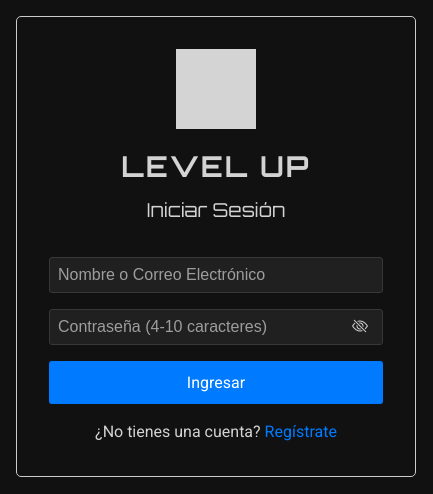
Test case: Login › Debería mostrar estado de carga durante el envío
The image size is (433, 494).
Type "test@example.com" into the field with placeholder "Nombre o Correo Electrónico" at (216, 275), box [49, 257, 383, 293]
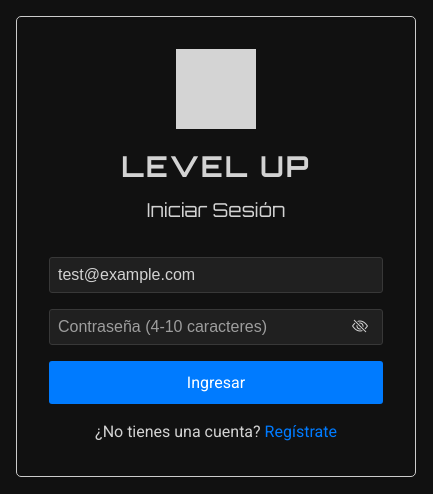
Type "1234" into the password field with placeholder "Contraseña (4-10 caracteres)" at (216, 327), box [49, 309, 383, 345]
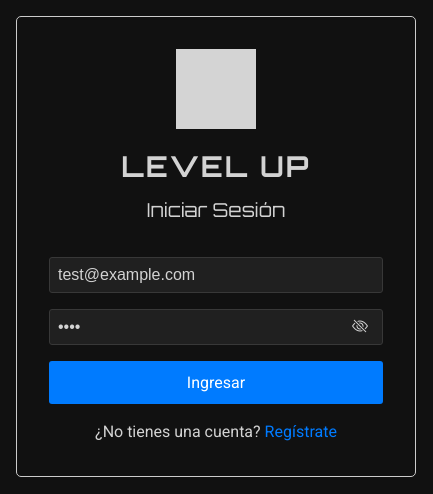
Click the button "Ingresar" at (216, 382), box [49, 361, 383, 404]
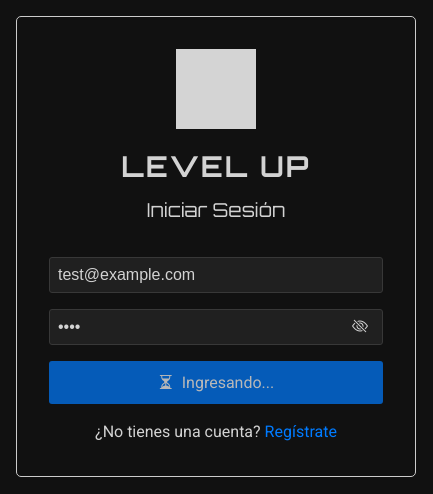
Expected: the button "Ingresando..." is disabled, [49, 361, 383, 404]
